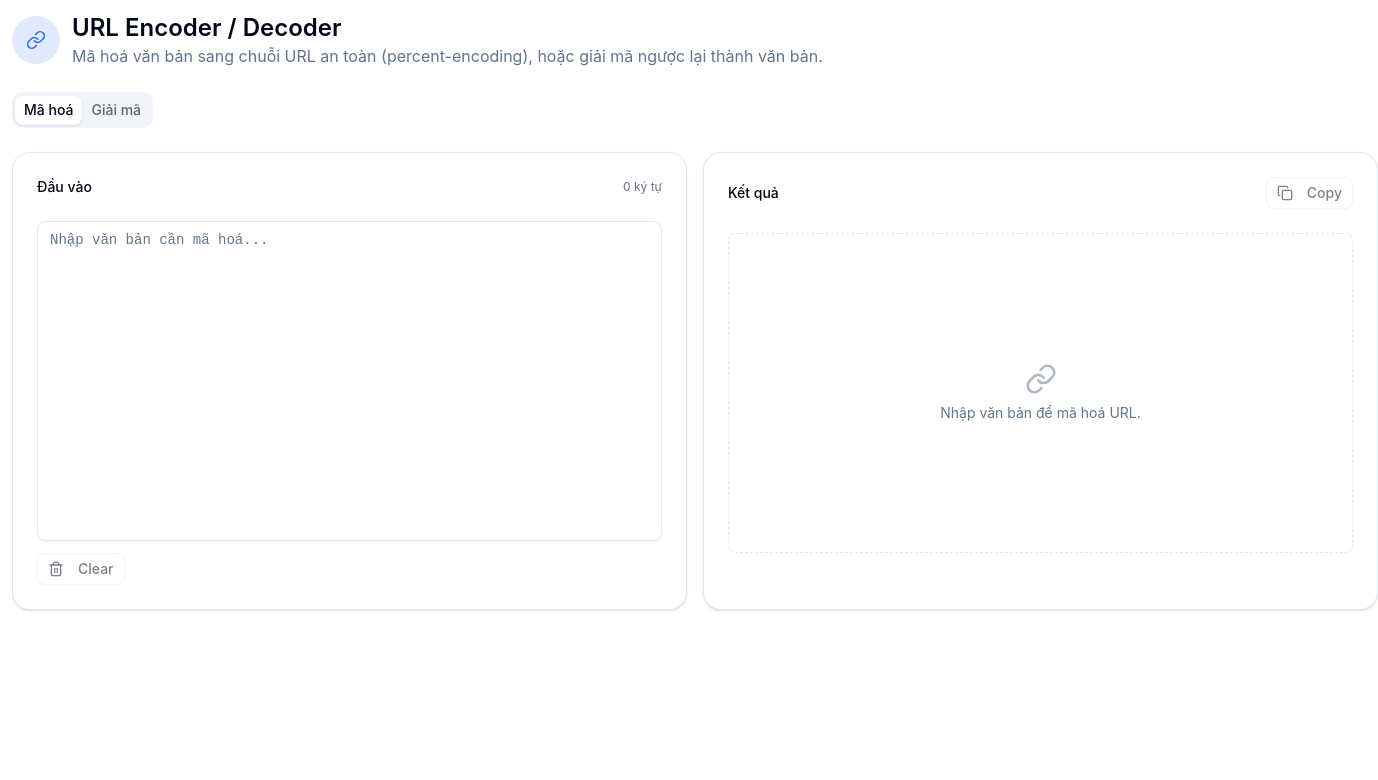
UrlEncoderDecoderScreen › shows an error for invalid percent-encoding in Decode mode
Click the tab "Giải mã".
click(116, 110)  # box top-left (82, 96), bottom-right (150, 124)
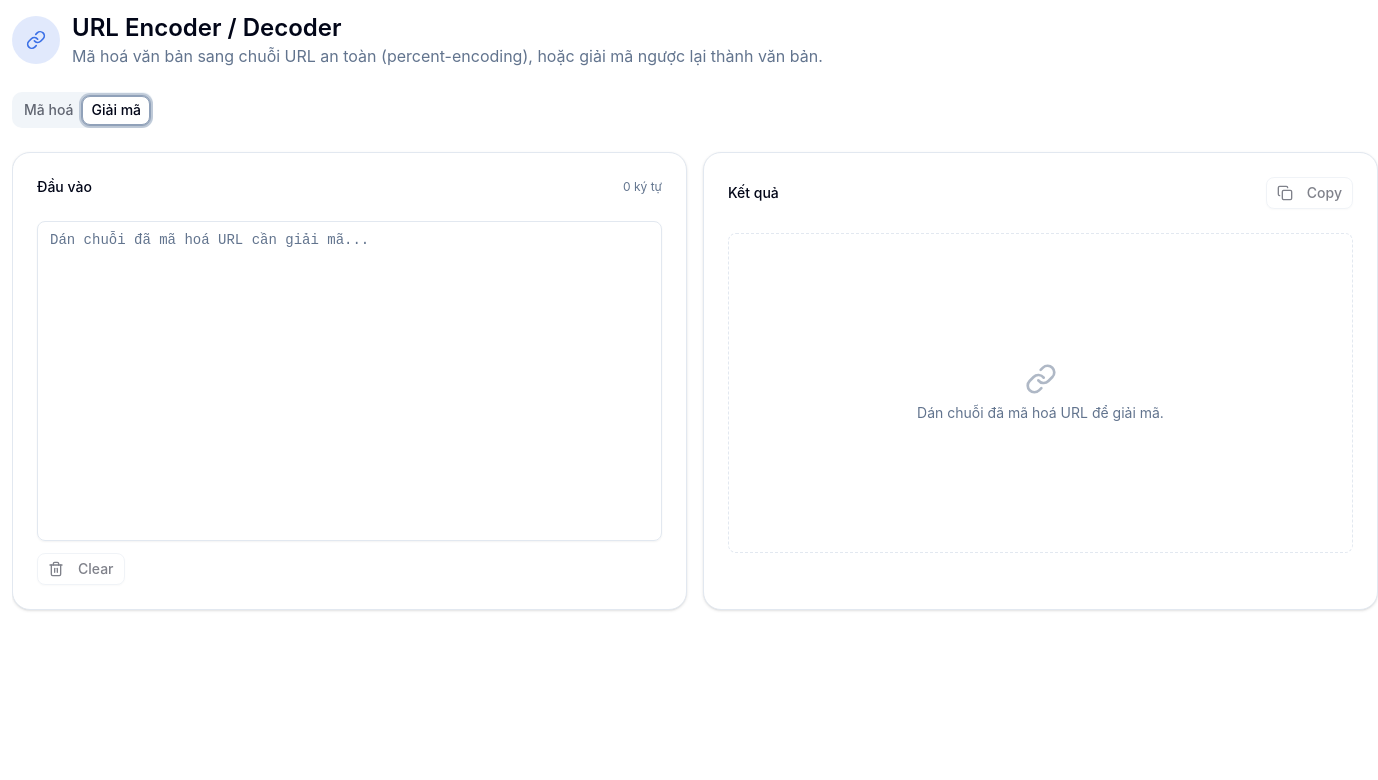
Type "100% done" into the text box named "Đầu vào".
click(350, 381); type("100% done")  # box top-left (37, 221), bottom-right (662, 541)
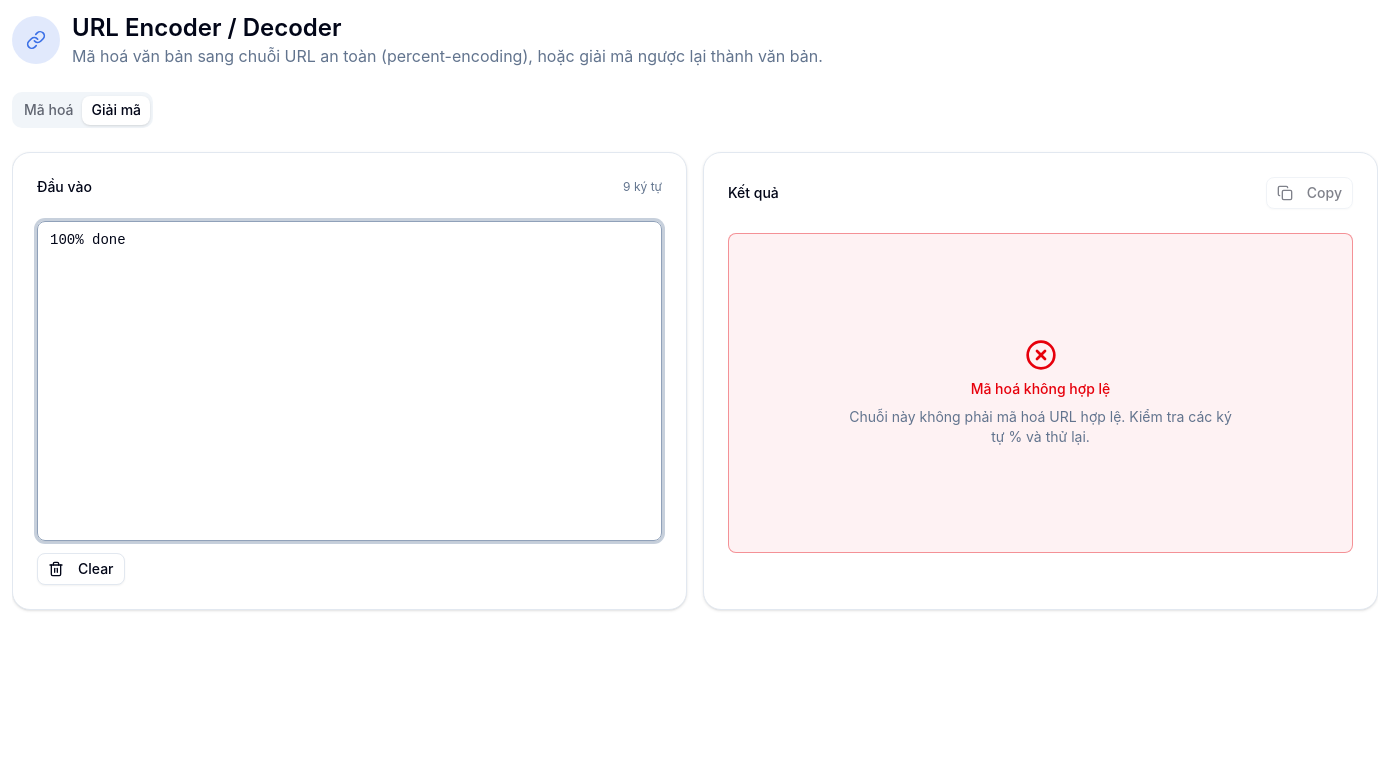
Expected: the text "Mã hoá không hợp lệ" is shown, top-left (971, 379), bottom-right (1110, 399)
